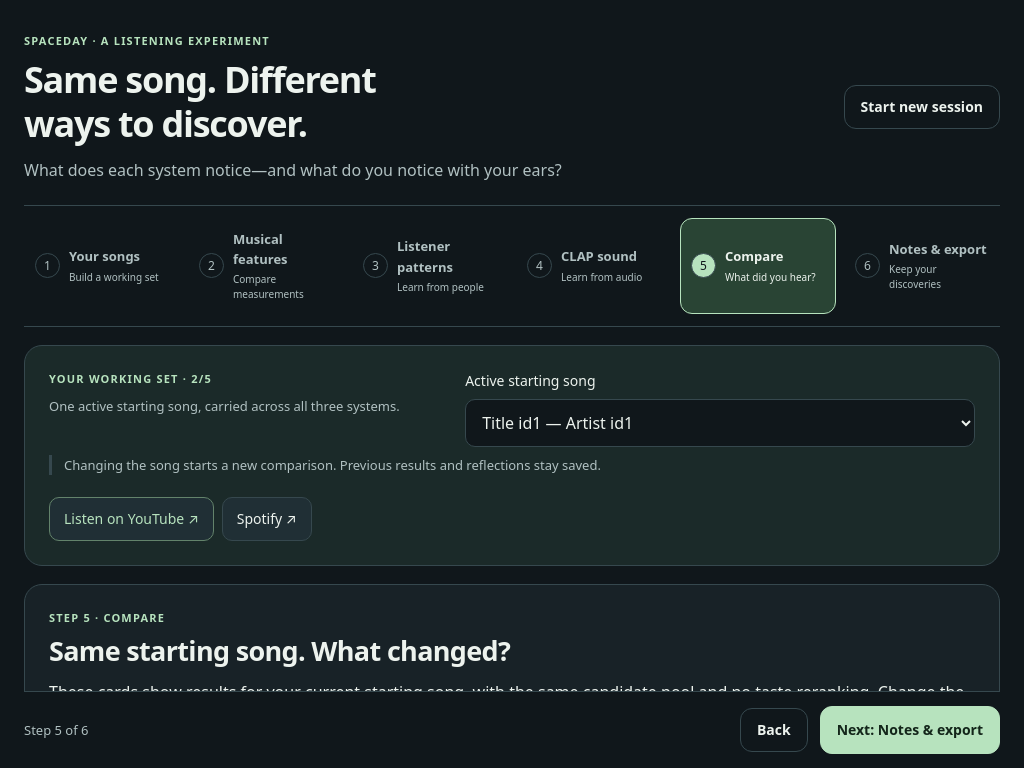
Test case: Shared song listening workshop › does not label older multi-seed runs as a controlled current comparison
The width and height of the screenshot is (1024, 768).
Expected: the text "same candidate pool" is shown, [49,681,964,728]
Step 1. Click the button "6 Notes & export Keep your discoveries" → [922, 266], box [844,218,1000,314]
(page scrolled)
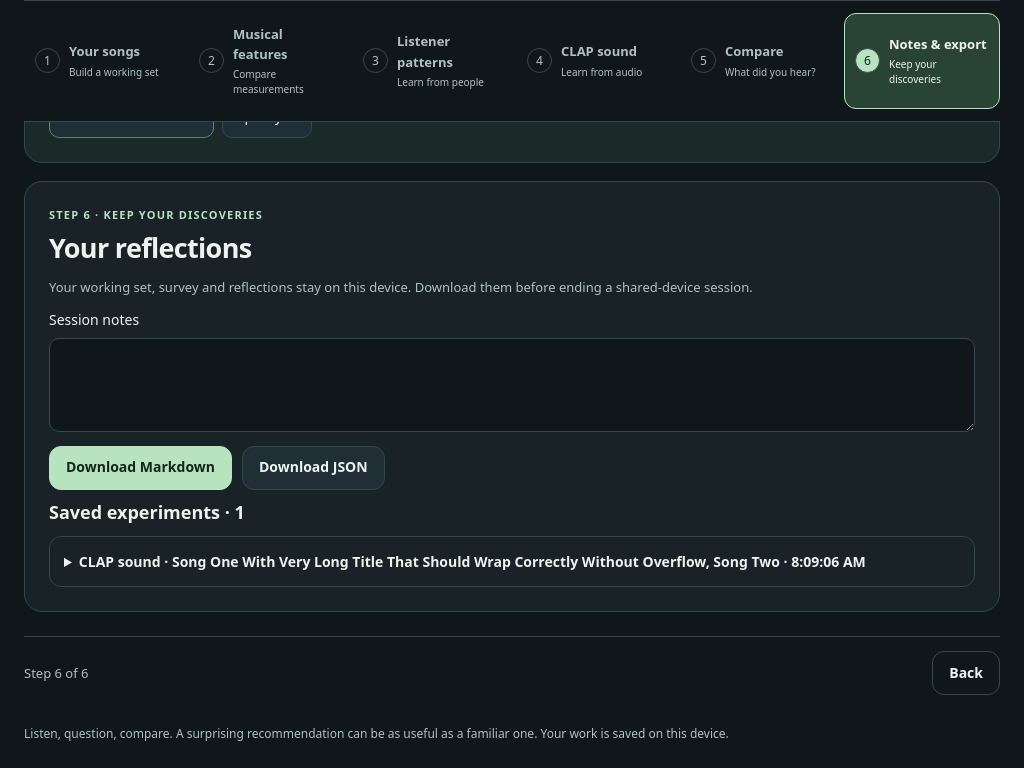
Expected: the heading "Saved experiments · 1" is shown, [49,500,245,524]
